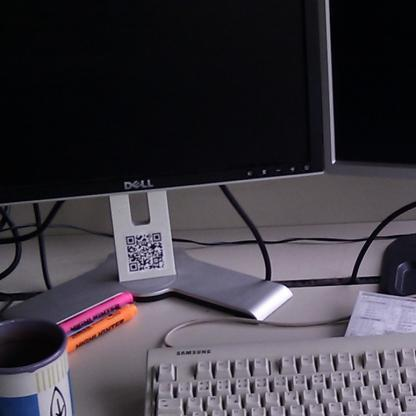qr_code: (125, 232, 165, 272)
